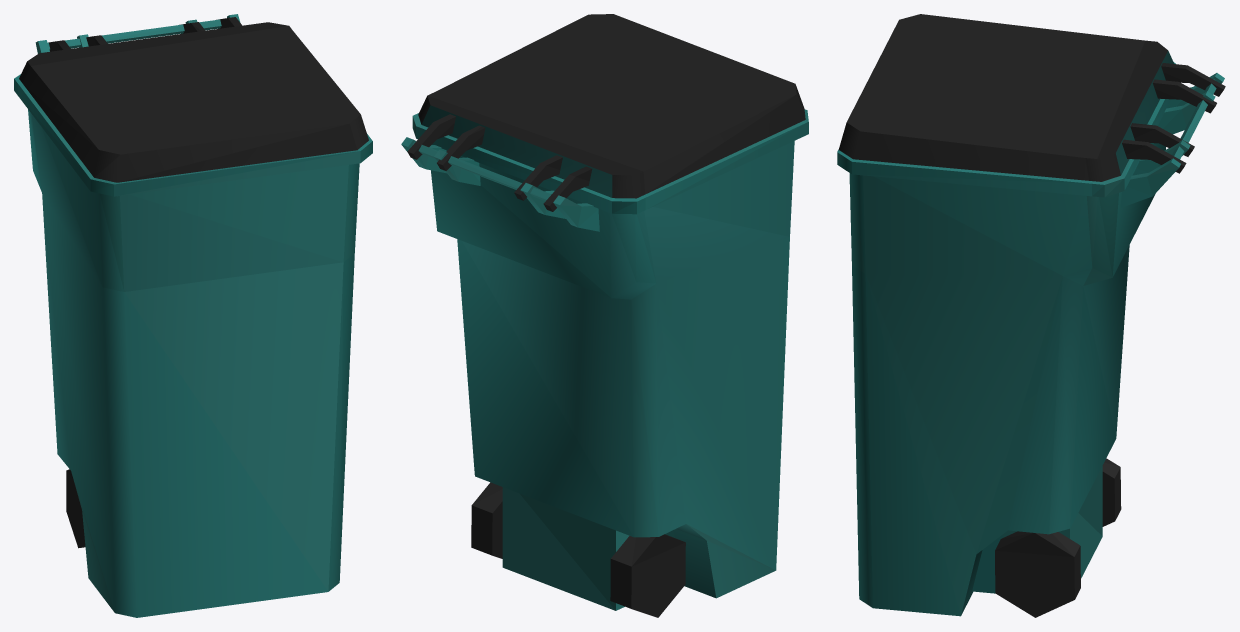
Rendered from hs_wheelie_bin.glb.
3 renders of one model, left to right at view 1: azimuth 30°, elevation 25°; view 2: azimuth 150°, elevation 25°; view 3: azimuth 270°, elevation 25°, orthographic. The views are drawn at different scales.
Visible parts, largest first — view 1: trash_can, trash_can_cover; view 2: trash_can, trash_can_cover; view 3: trash_can, trash_can_cover.
Boxes of the visible parts, x1,y1,x2,y2 form: trash_can: (14,14,372,617); trash_can_cover: (19,17,368,182); trash_can: (401,109,808,617); trash_can_cover: (407,14,805,211); trash_can: (837,62,1224,617); trash_can_cover: (838,14,1225,181).
Size of the model in its own units: 0.7996 by 1.21 by 0.8782.
